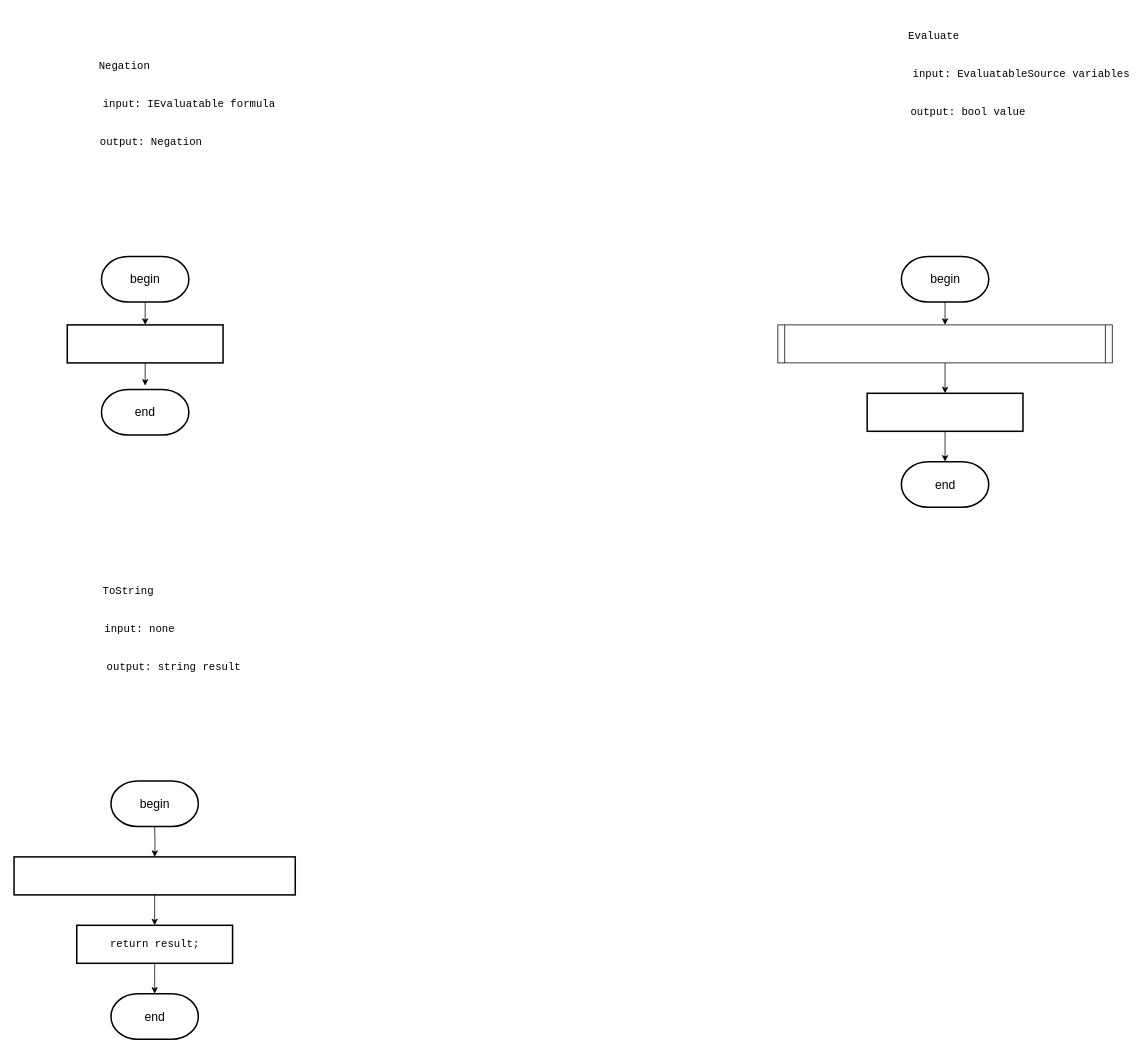
This 1144x1053 diagram has some shape labels left out. The centre of each missing label's shape, as x and y in pixels:
bool value = !Formula.Evaluate(variables);: pixel 944 343
Formula = formula ;: pixel 144 343
return value;: pixel 944 412
string result = $"(! {Formula} )" ;: pixel 154 875
